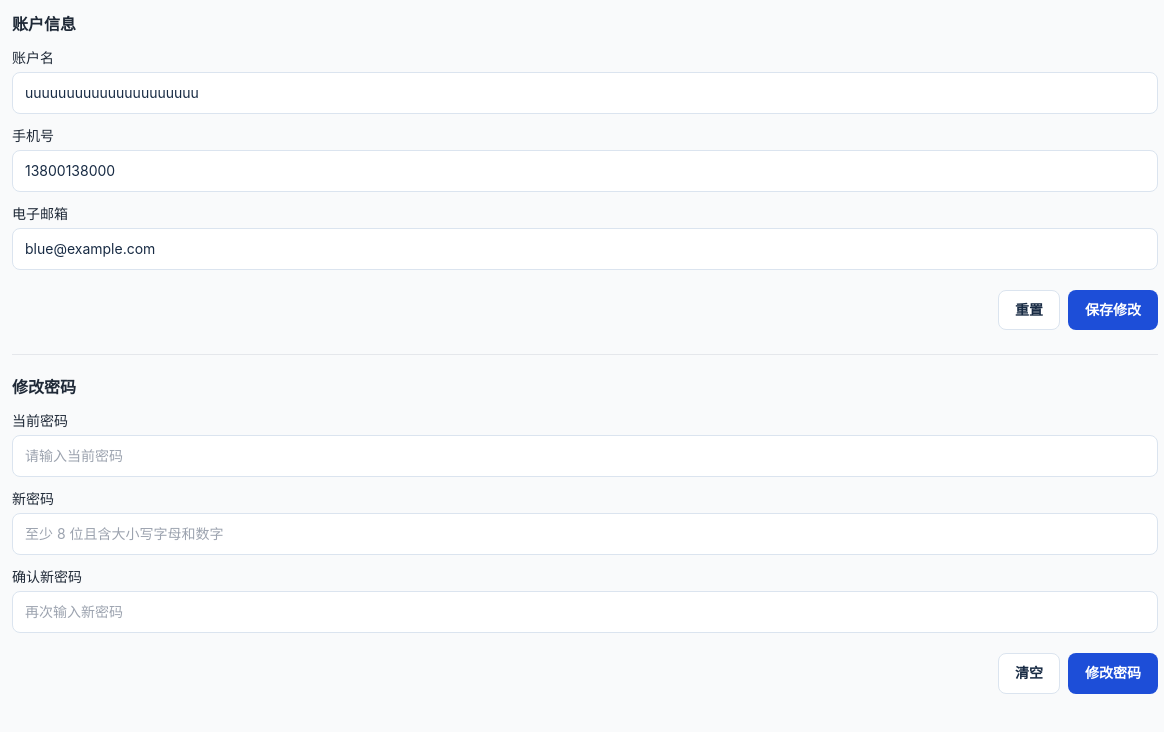
SettingsAccount › allows an existing 21-character username when saving another account field
The image size is (1164, 732).
Replace the text in the field with id "settings-account-phone" with "13900000000" at (585, 171), box x1=12 y1=150 x2=1158 y2=192
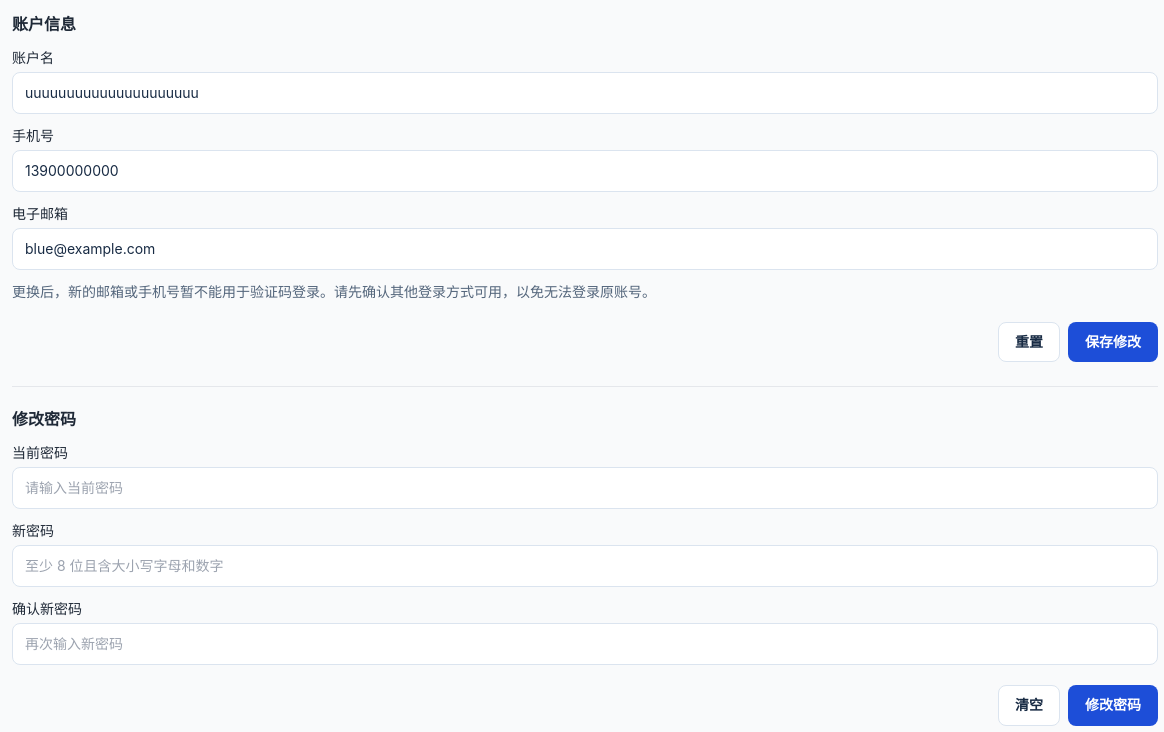
Click the button "保存修改" at (1113, 342), box x1=1068 y1=322 x2=1158 y2=362
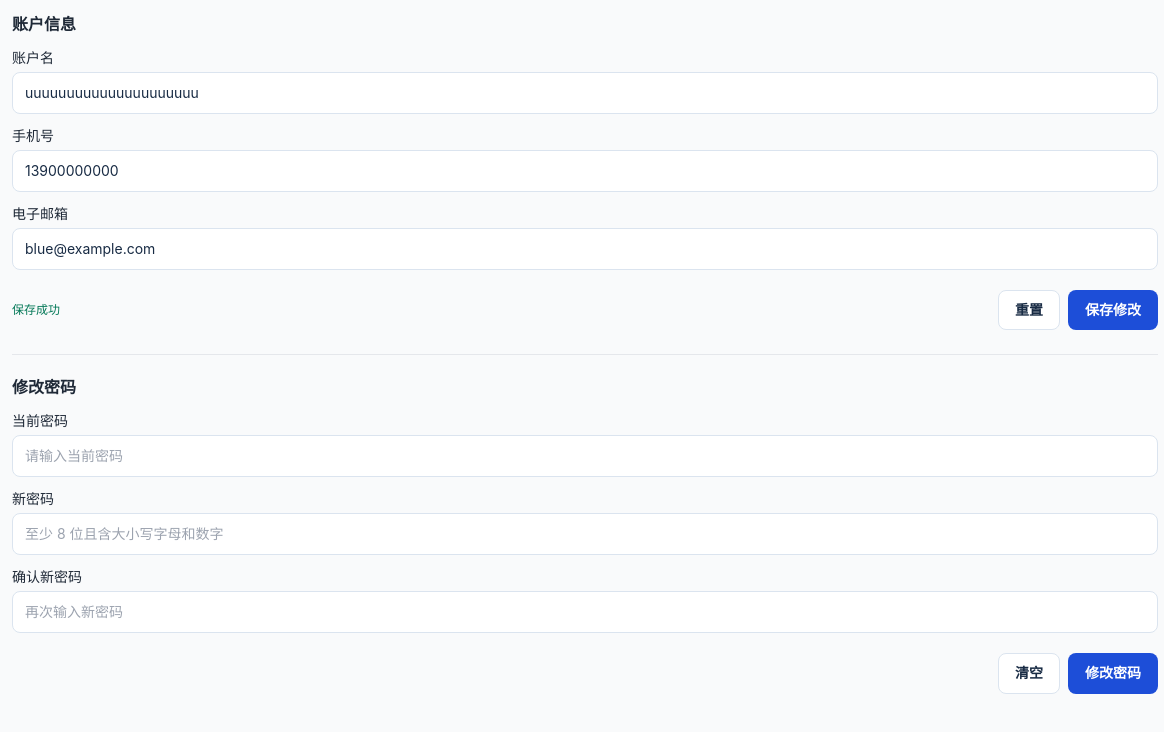
Result: the text "保存成功" is shown at x1=12 y1=302 x2=60 y2=318
